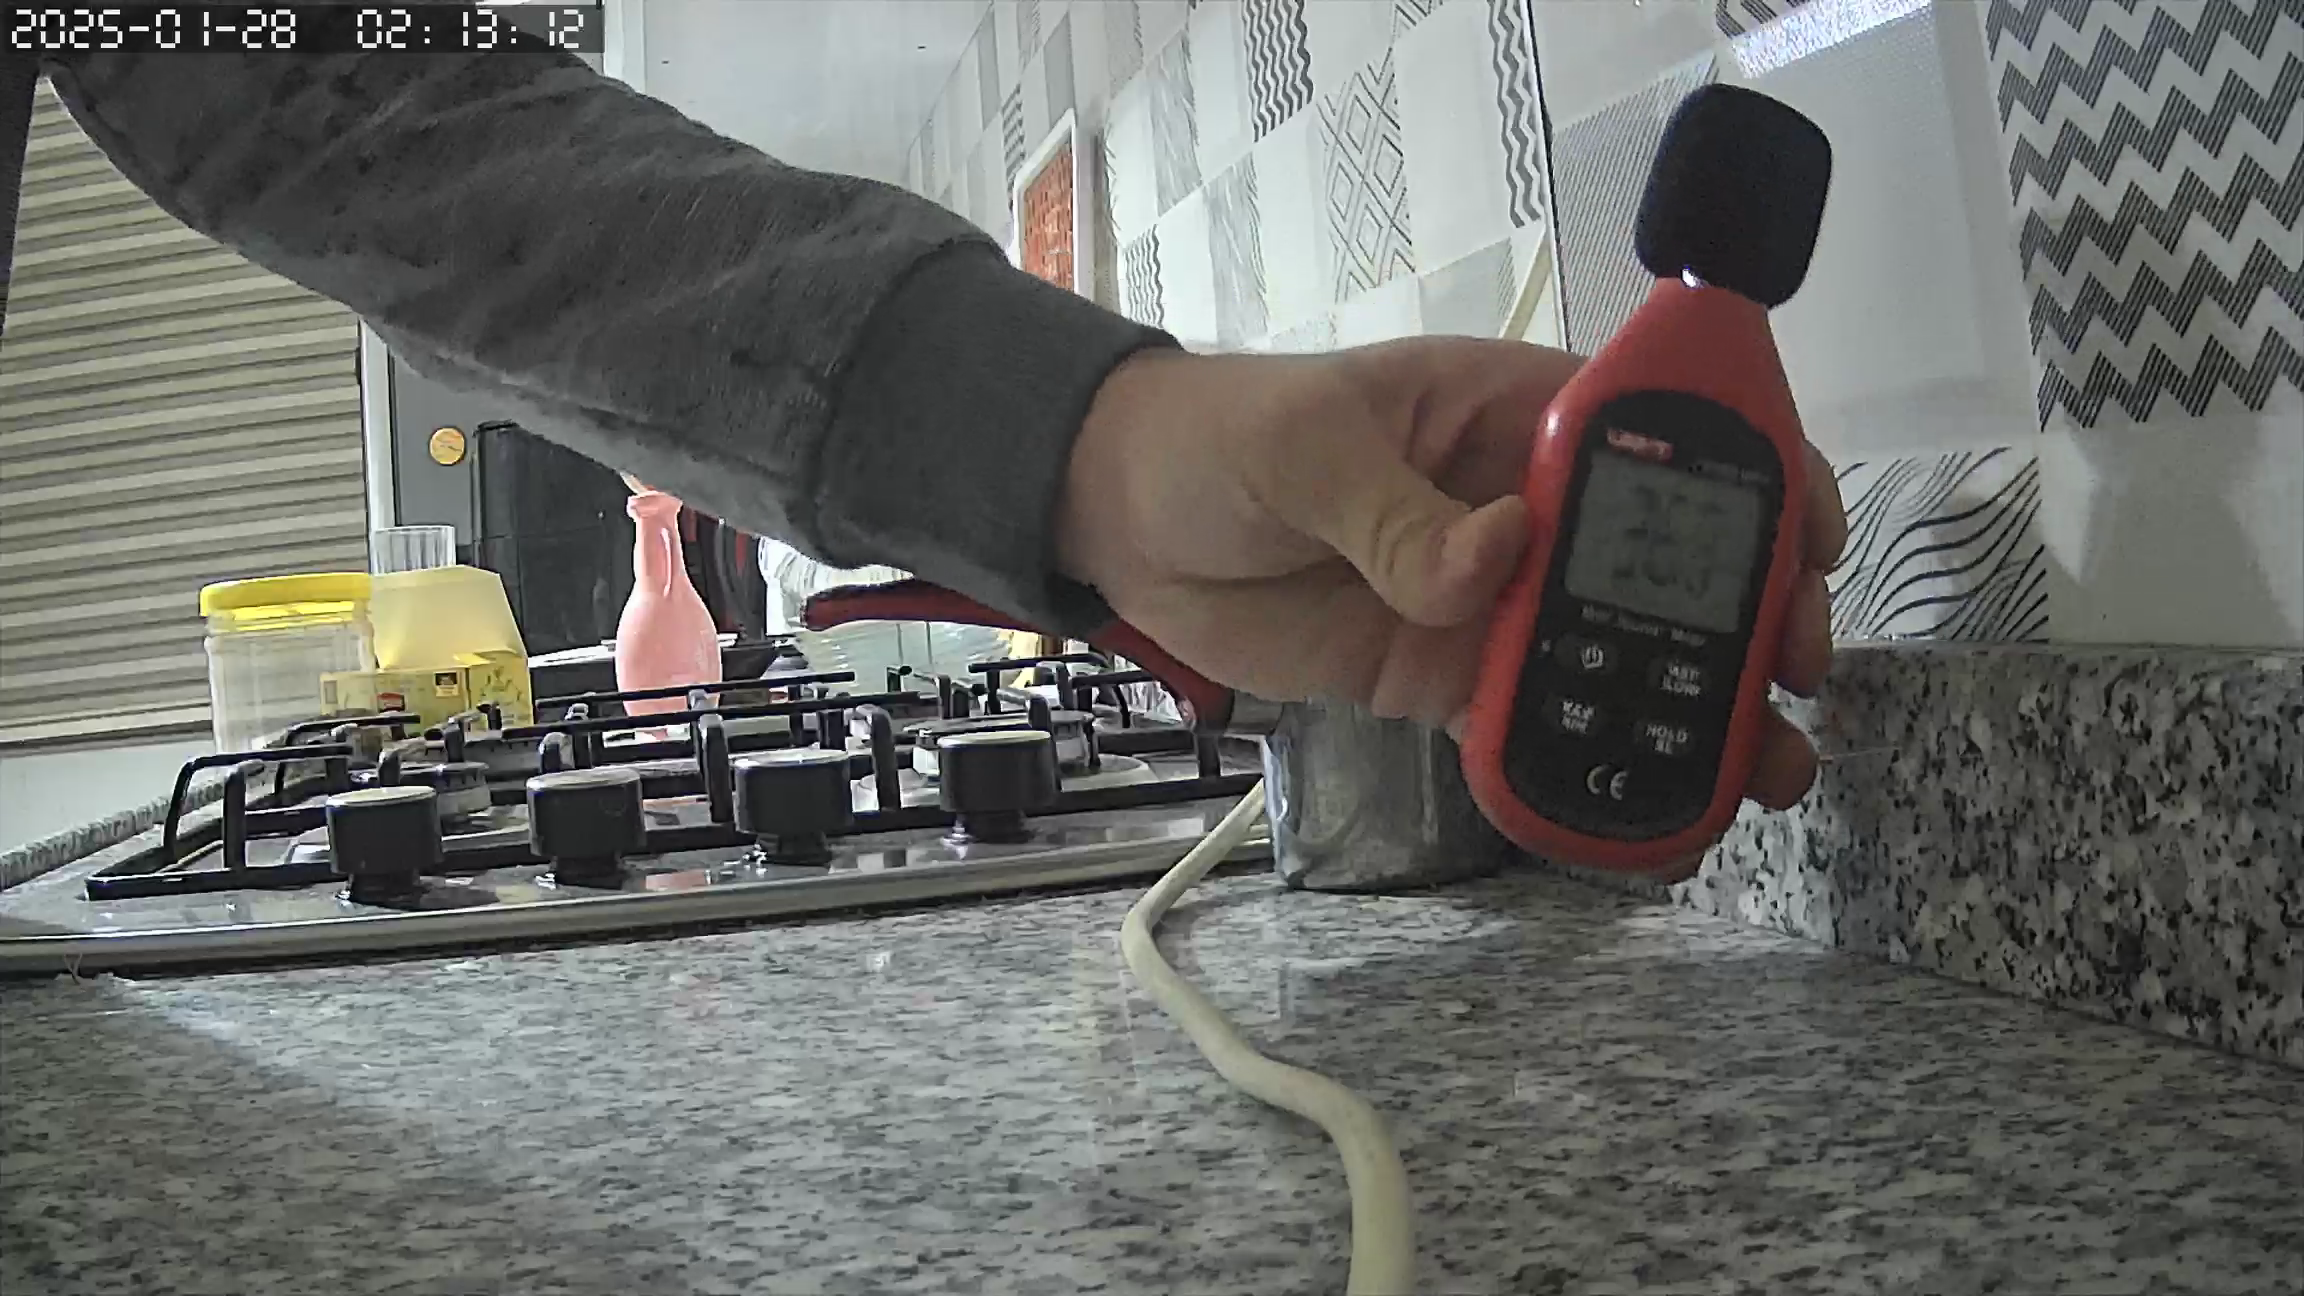screen: (1568, 449, 1760, 636)
